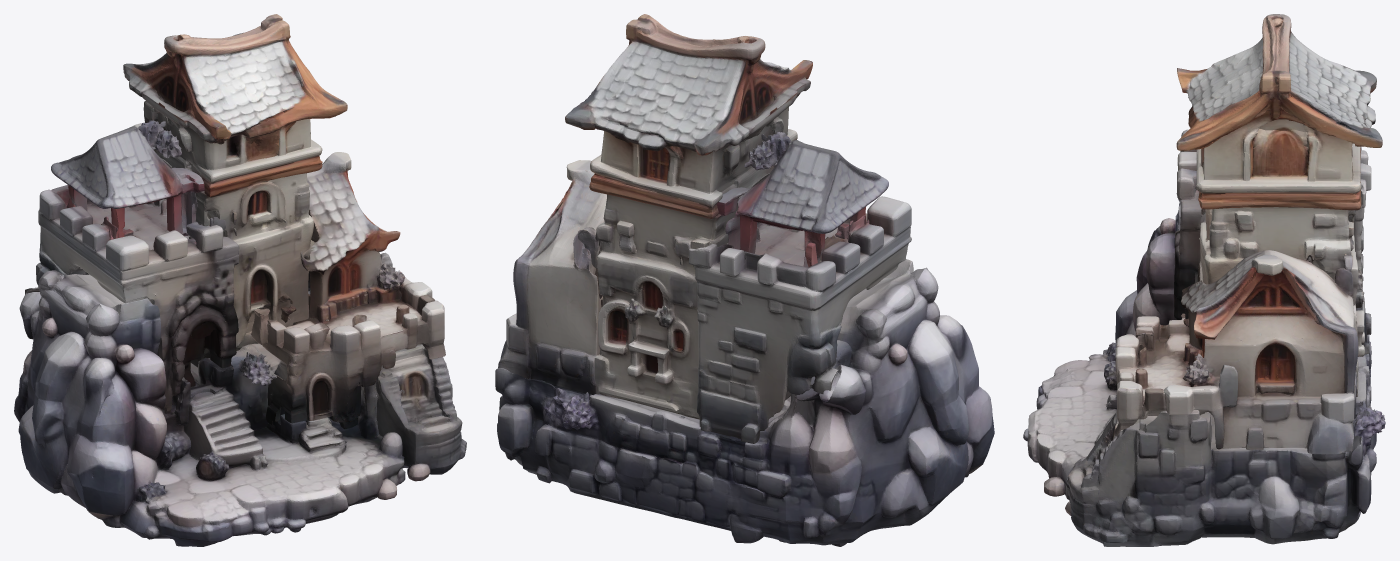
The picture shows the model from 3 angles, left to right: view 1: azimuth 30°, elevation 25°; view 2: azimuth 150°, elevation 25°; view 3: azimuth 270°, elevation 25°; orthographic projection. The views are drawn at different scales.
Parts seen in each view (by area): view 1: 0, 3, 4, 1, 2; view 2: 0, 3, 1, 4, 2; view 3: 0, 3, 4, 1.
Boxes of the visible parts, bbox=[...] form: 0: bbox=[14, 270, 466, 546]; 3: bbox=[123, 14, 347, 350]; 4: bbox=[251, 152, 445, 429]; 1: bbox=[25, 185, 239, 413]; 2: bbox=[51, 120, 204, 238]; 0: bbox=[495, 259, 994, 546]; 3: bbox=[565, 14, 812, 419]; 1: bbox=[689, 196, 911, 443]; 4: bbox=[498, 160, 606, 394]; 2: bbox=[716, 132, 888, 267]; 0: bbox=[1023, 193, 1385, 546]; 3: bbox=[1176, 14, 1382, 396]; 4: bbox=[1115, 250, 1358, 454]; 1: bbox=[1174, 129, 1371, 354].
Bounding box in the file's own units: 0.9279 × 0.9803 × 0.737.
5 materials, 5 textured.
